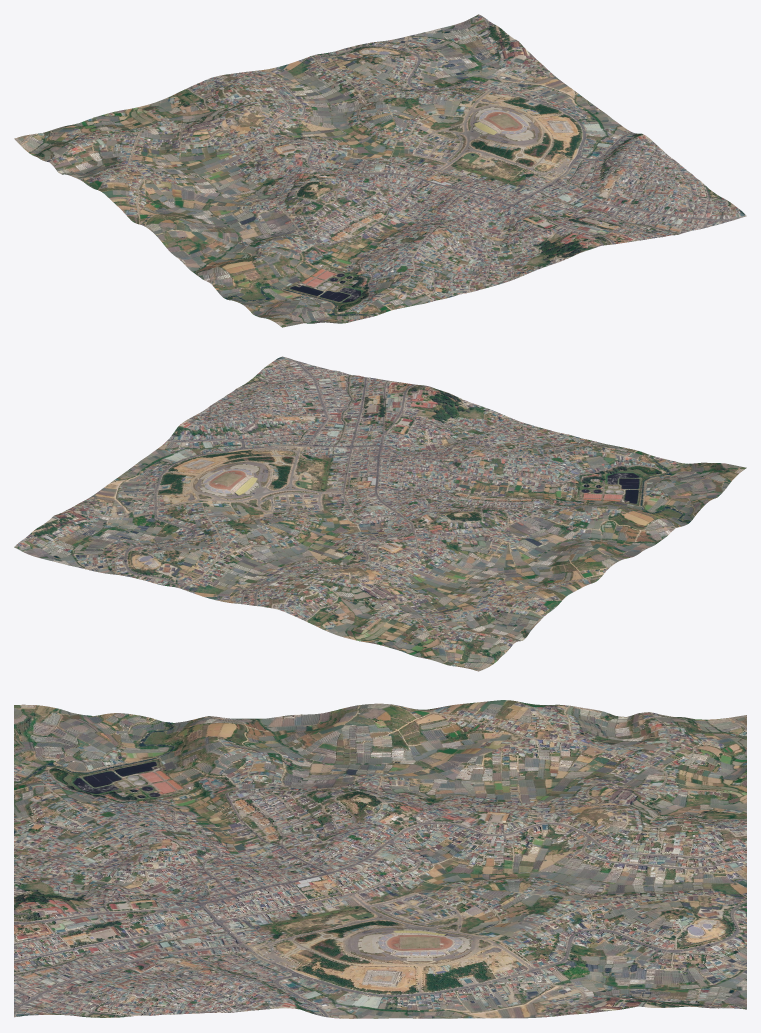
File: terrain_real_T_W01_N01.glb
3 renders of one model, top to bottom at view 1: azimuth 30°, elevation 25°; view 2: azimuth 150°, elevation 25°; view 3: azimuth 270°, elevation 25°, orthographic. The views are drawn at different scales.
Parts seen in each view (by area): view 1: TerrainReal_T_W01_N01; view 2: TerrainReal_T_W01_N01; view 3: TerrainReal_T_W01_N01.
Part boxes in pixels (<box>): TerrainReal_T_W01_N01: <box>14,14,746,327</box>; TerrainReal_T_W01_N01: <box>14,356,746,671</box>; TerrainReal_T_W01_N01: <box>14,700,746,1018</box>.
Size of the model in its own units: 2000 by 95.96 by 2000.
Materials: 1 (1 with a texture image).
